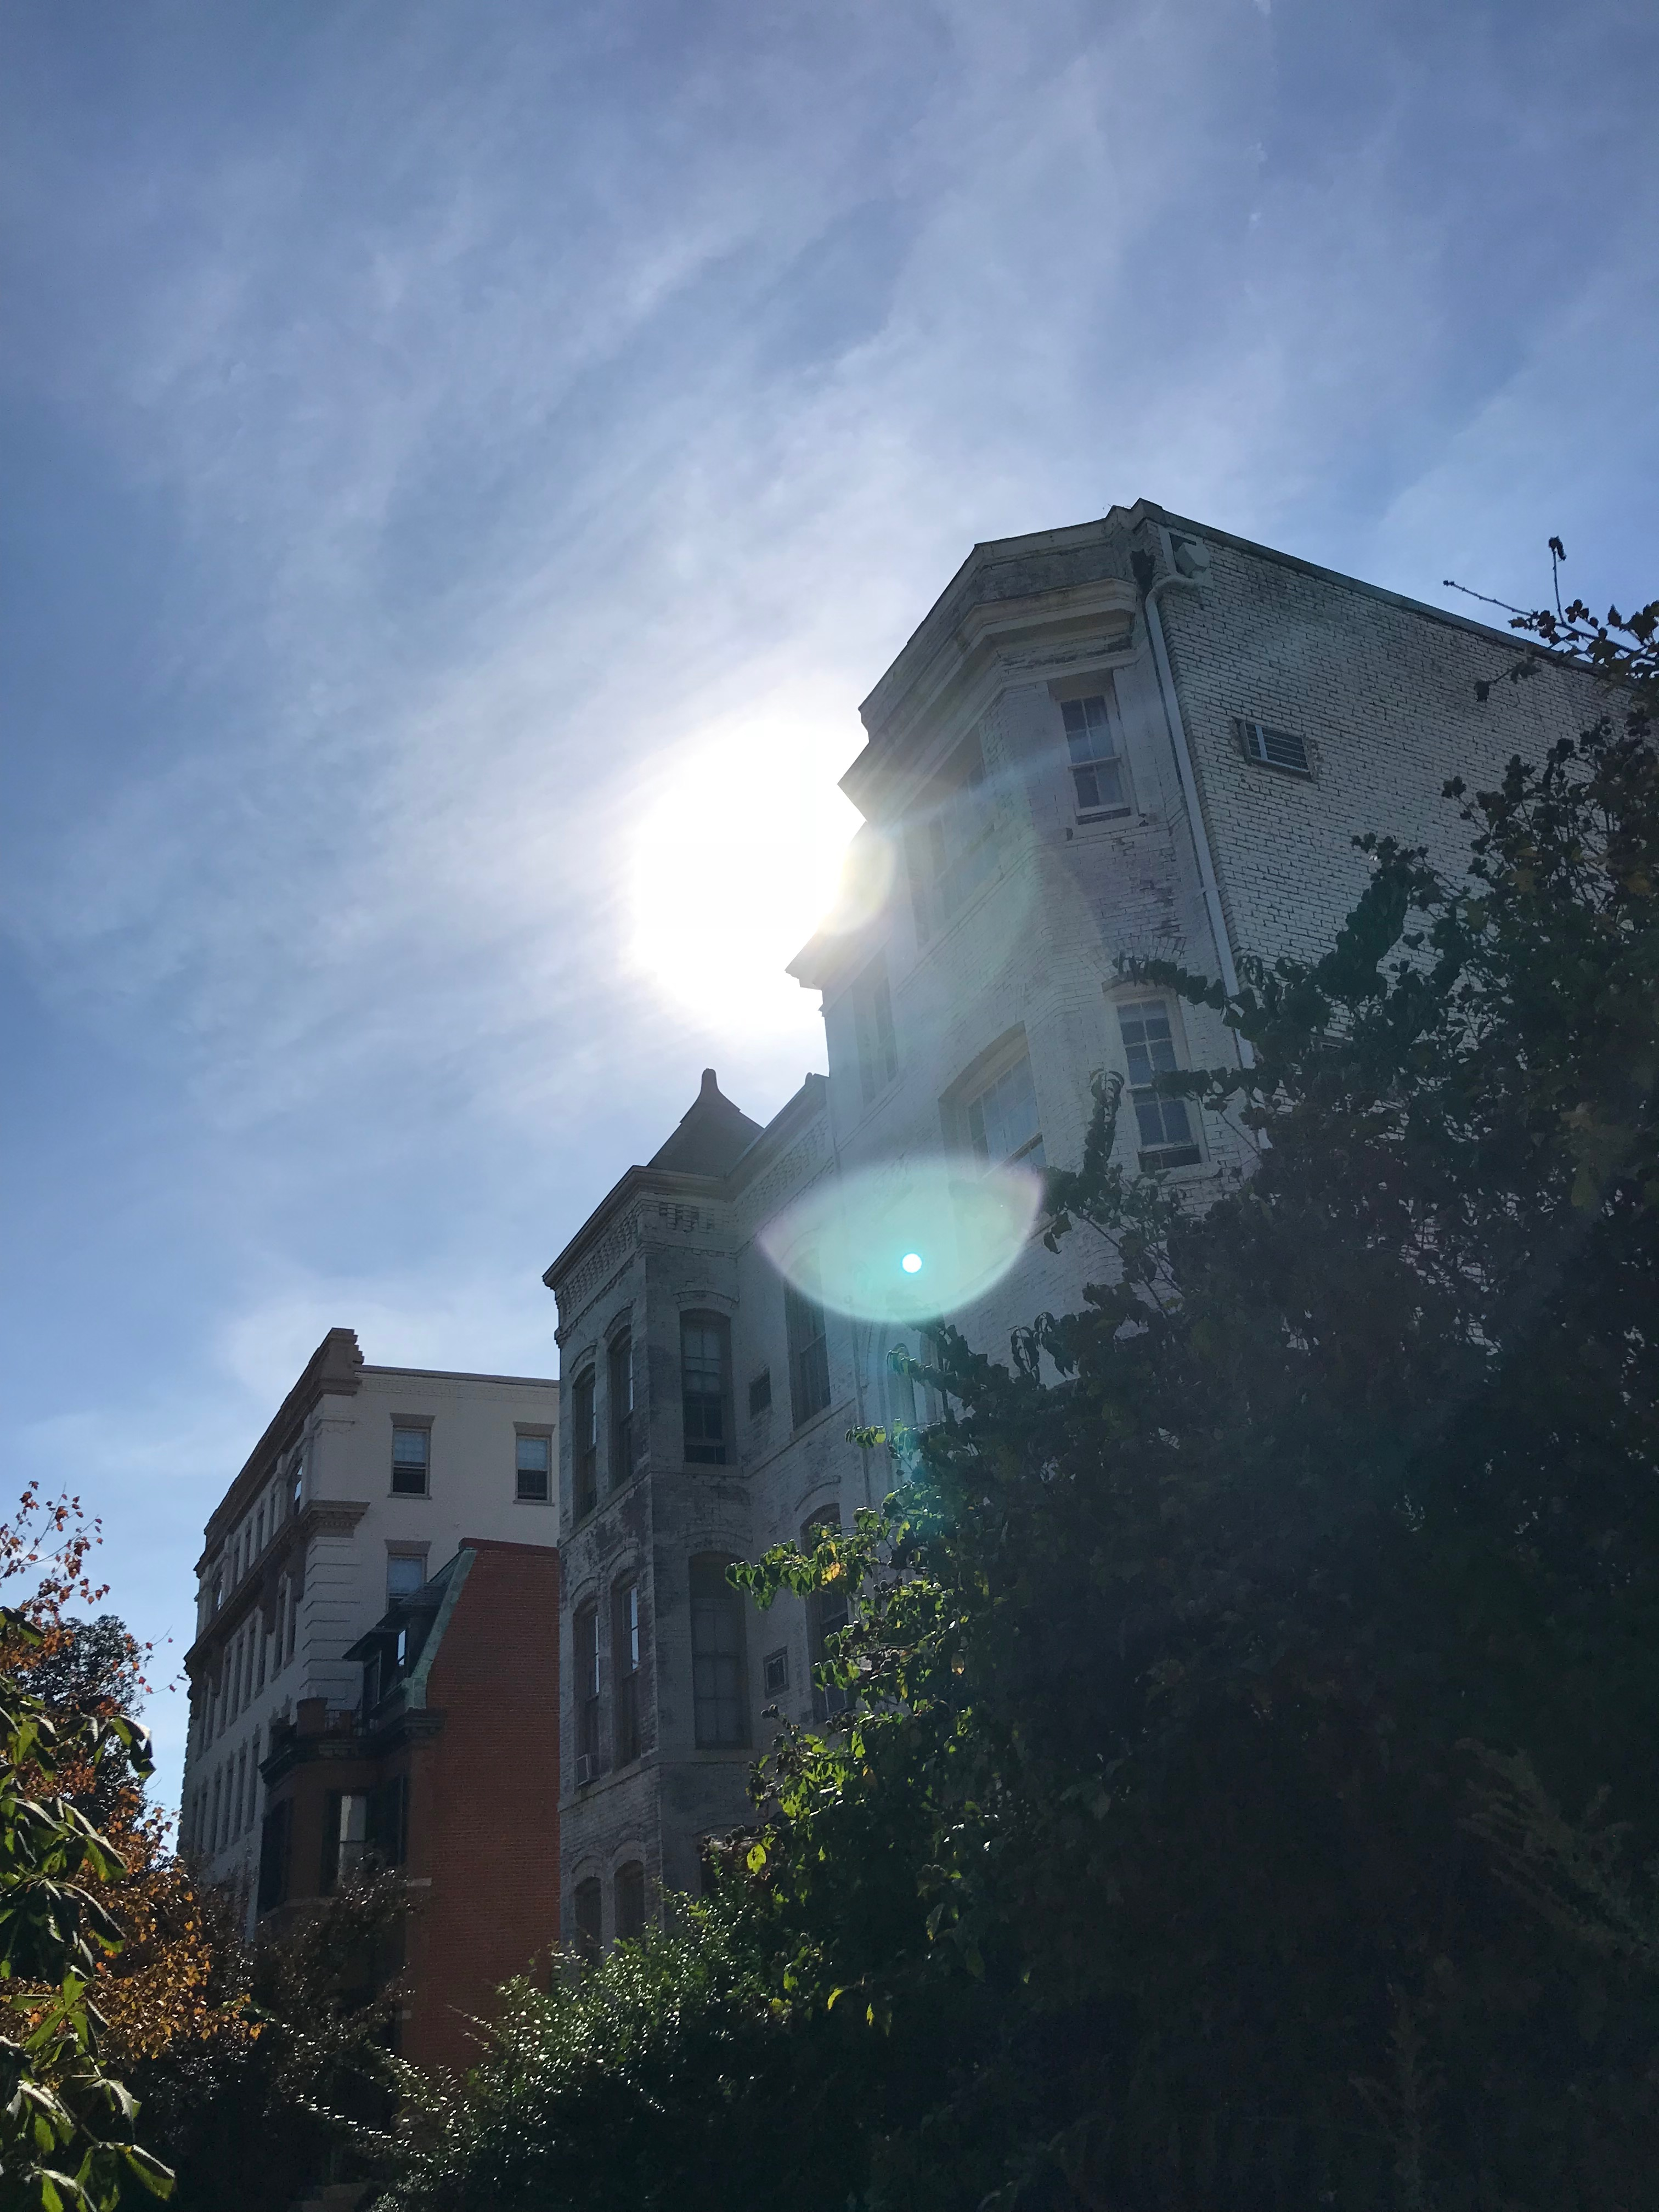flare: (899, 1251, 925, 1277)
